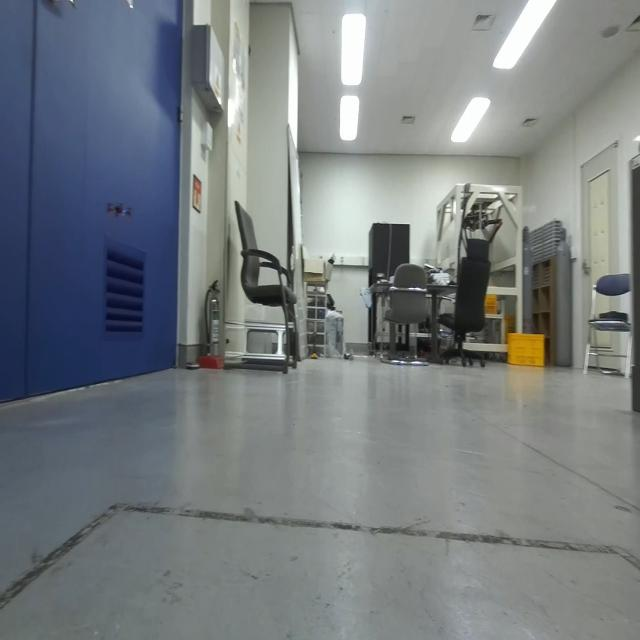crazyflie: (103, 194, 137, 230)
